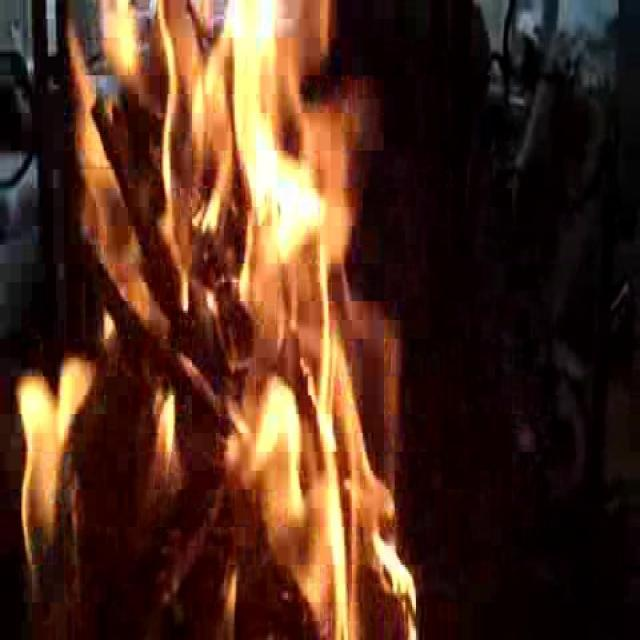Fire: (48, 7, 378, 616)
